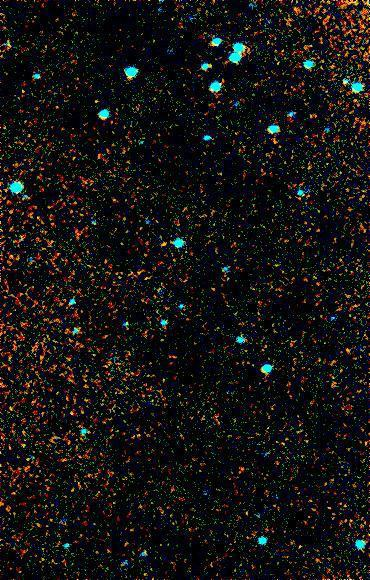star: (147, 228, 177, 258)
